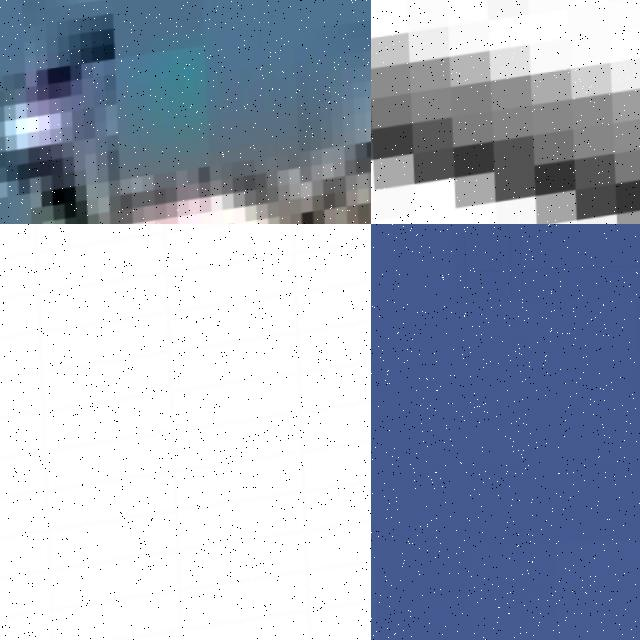0: (0, 0, 371, 224)
drone: (0, 224, 371, 640), (371, 0, 640, 224)
